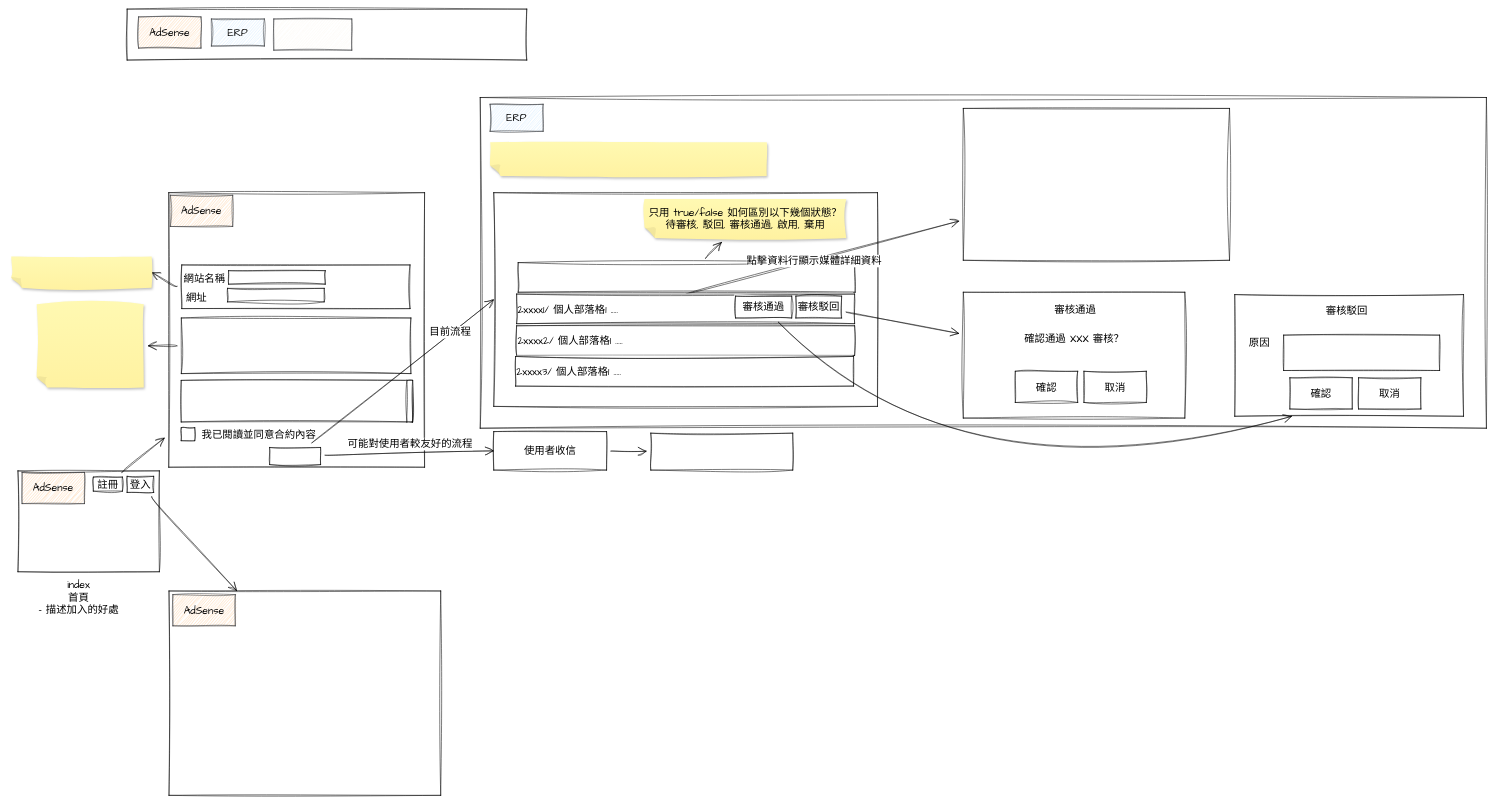
The diagram is 1496 pixels wide and 804 high, and some of its shapes have lost their labels. The shapes that lost their labels are listed below. From the top down, each one's centre as x and y in pixels, then its label:
At (x=312, y=34): "sequence.json".
At (x=629, y=159): "❓ERP 新增頁面供 PD 審核用 https://oss-onead.com.tw/v2/publisher_management".
At (x=81, y=272): "目前只能建立一個網站".
At (x=686, y=277): "uid/ 狀態/ ... / 功能".
At (x=90, y=346): "網站主基本資料".
At (x=297, y=401): "合約內容".
At (x=295, y=456): "提出申請".
At (x=721, y=451): "使用者點選啟動帳號連結".
